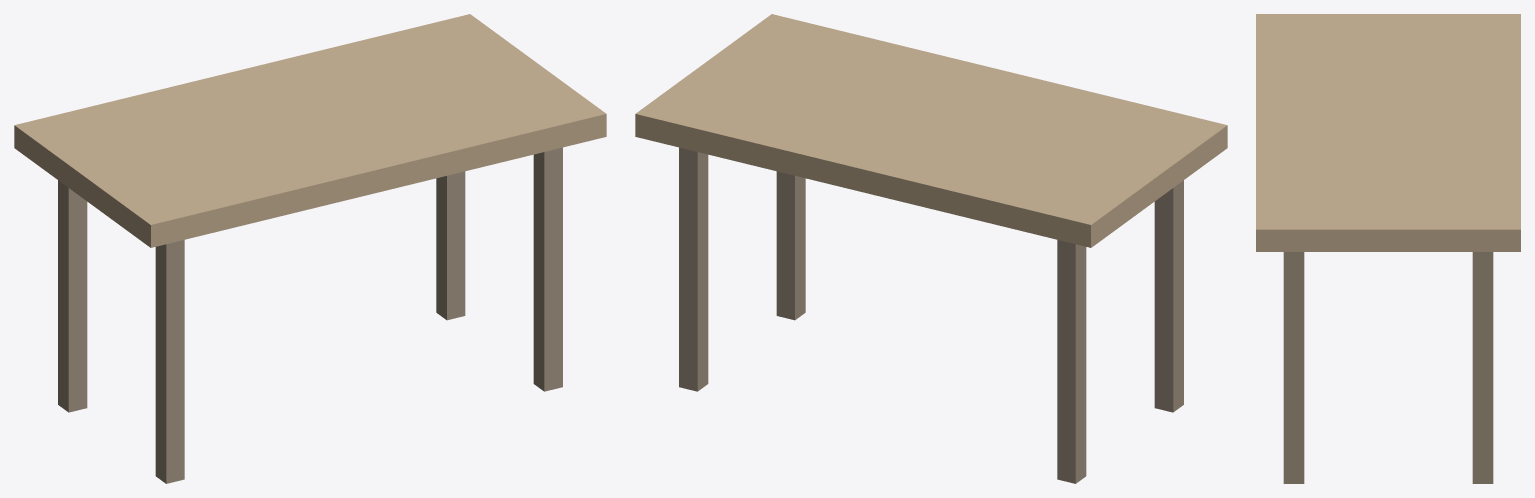
File: Desk_01.glb
The picture shows the model from 3 angles, left to right: view 1: azimuth 30°, elevation 25°; view 2: azimuth 150°, elevation 25°; view 3: azimuth 270°, elevation 25°; orthographic projection. The views are drawn at different scales.
Visible parts, largest first — view 1: Desk_01/Tabletop_0, Desk_01/Leg_2, Desk_01/Leg_4, Desk_01/Leg_1, Desk_01/Leg_3; view 2: Desk_01/Tabletop_0, Desk_01/Leg_1, Desk_01/Leg_3, Desk_01/Leg_2, Desk_01/Leg_4; view 3: Desk_01/Tabletop_0, Desk_01/Leg_3, Desk_01/Leg_4.
Part boxes in pixels (<box>): Desk_01/Tabletop_0: <box>14,14,606,247</box>; Desk_01/Leg_2: <box>155,240,184,483</box>; Desk_01/Leg_4: <box>533,147,562,391</box>; Desk_01/Leg_1: <box>58,180,87,412</box>; Desk_01/Leg_3: <box>436,171,465,320</box>; Desk_01/Tabletop_0: <box>635,14,1227,247</box>; Desk_01/Leg_1: <box>1057,240,1086,483</box>; Desk_01/Leg_3: <box>679,147,708,391</box>; Desk_01/Leg_2: <box>1154,180,1183,412</box>; Desk_01/Leg_4: <box>776,171,805,320</box>; Desk_01/Tabletop_0: <box>1256,14,1520,251</box>; Desk_01/Leg_3: <box>1472,252,1493,483</box>; Desk_01/Leg_4: <box>1283,252,1304,483</box>.
Size of the model in its own units: 1.35 by 0.7825 by 0.7.
